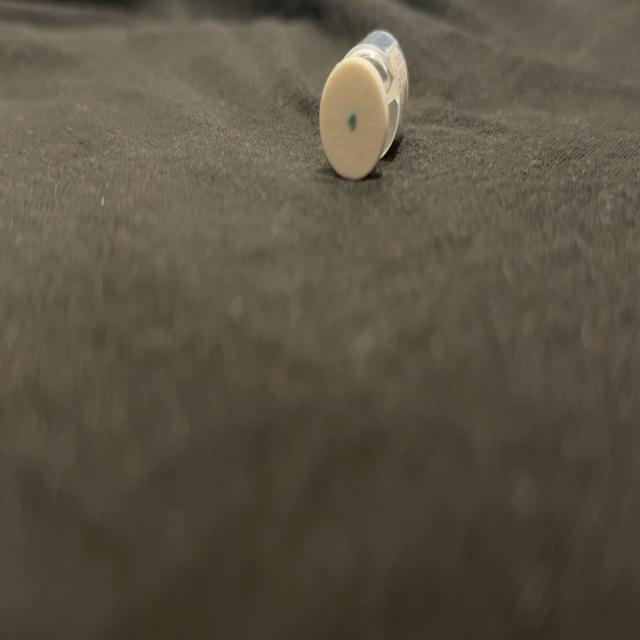fentanl_citrat: (320, 32, 407, 178)
